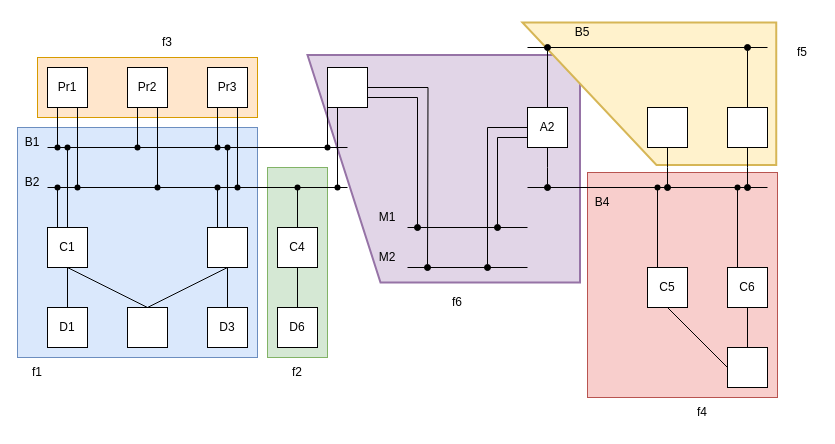
Image size: 835x444. Some labels were removed from this diagram. The shapes that lost their labels are listed below. From the top down, each one's centre as x and y in pixels, then its label:
At point (347, 87): "A1".
At point (667, 127): "Pr5".
At point (747, 127): "Pr6".
At point (227, 247): "С2".
At point (147, 327): "D2".
At point (747, 367): "D8".
